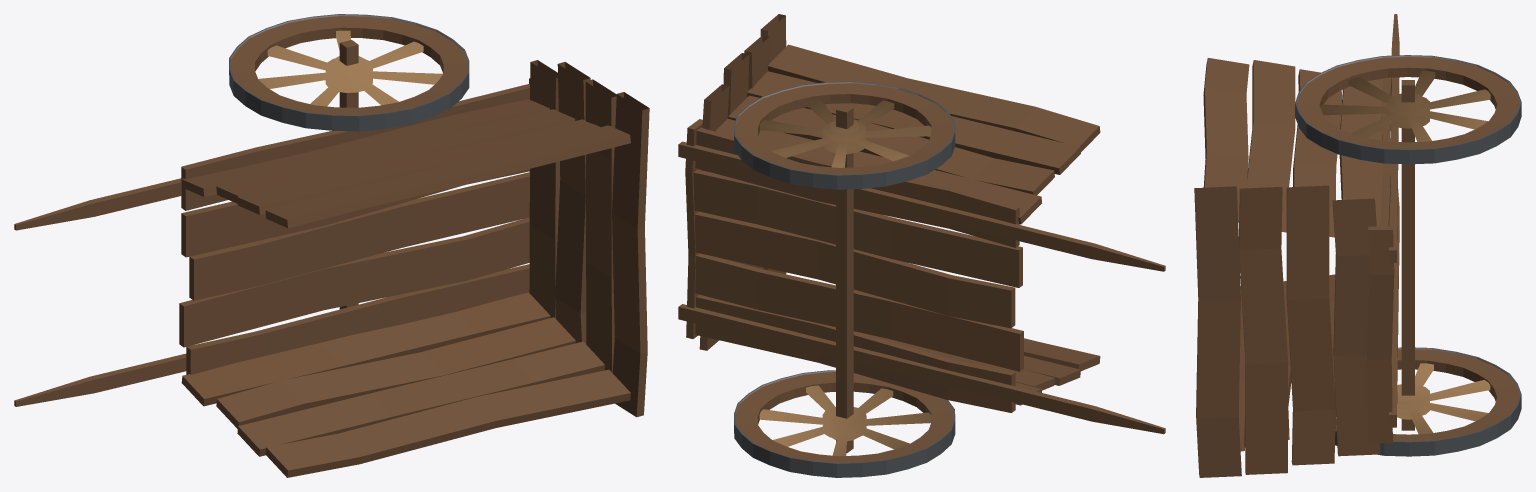
File: Cart_02.fbx
The picture shows the model from 3 angles, left to right: view 1: azimuth 30°, elevation 25°; view 2: azimuth 150°, elevation 25°; view 3: azimuth 270°, elevation 25°; orthographic projection. The views are drawn at different scales.
Visible parts, largest first — view 1: Cart_1.0_LOW.006; view 2: Cart_1.0_LOW.006; view 3: Cart_1.0_LOW.006.
Part boxes in pixels (bbox=[...]): Cart_1.0_LOW.006: bbox=[14, 14, 649, 477]; Cart_1.0_LOW.006: bbox=[678, 14, 1165, 477]; Cart_1.0_LOW.006: bbox=[1194, 14, 1521, 477].
Size of the model in its own units: 181 by 122 by 104.
